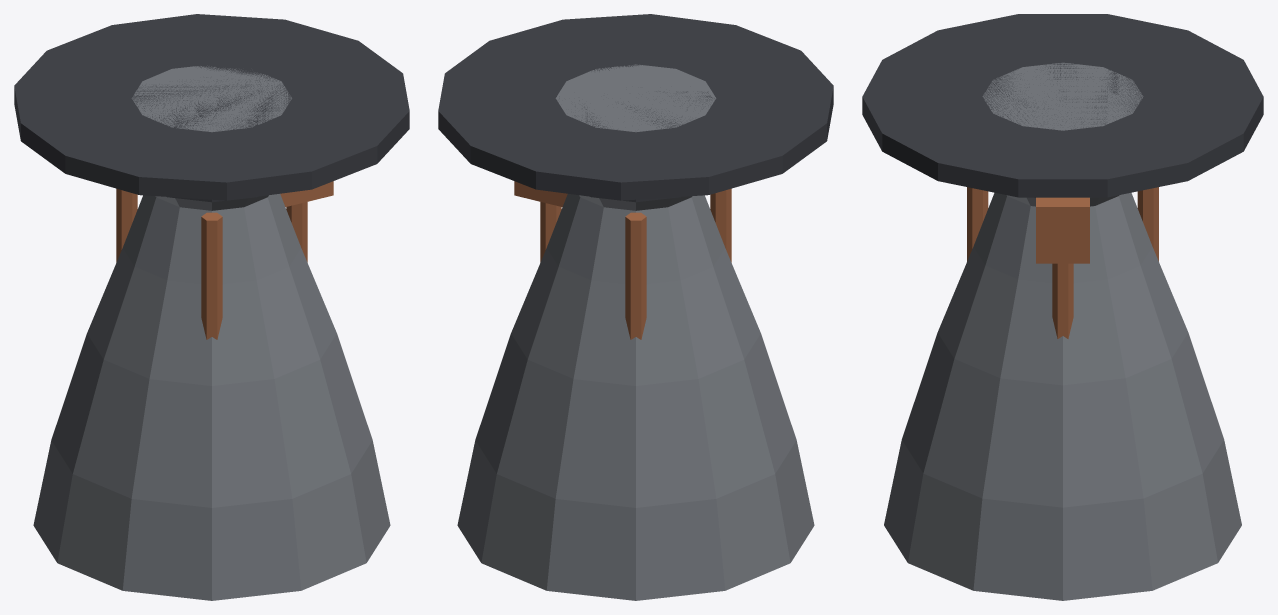
The model's file is Eng_L_Vac.fbx.
3 views of the same model, side by side, from view 1: azimuth 30°, elevation 25°; view 2: azimuth 150°, elevation 25°; view 3: azimuth 270°, elevation 25° (orthographic).
Parts seen in each view (by area): view 1: Eng_L_Vac; view 2: Eng_L_Vac; view 3: Eng_L_Vac.
Part boxes in pixels (x1,y1,x2,y2): Eng_L_Vac: [14, 14, 409, 600]; Eng_L_Vac: [438, 14, 833, 600]; Eng_L_Vac: [862, 14, 1263, 600].
Bounding box in the file's own units: 2.73 × 3.3 × 2.8.
1 material, 1 textured.
